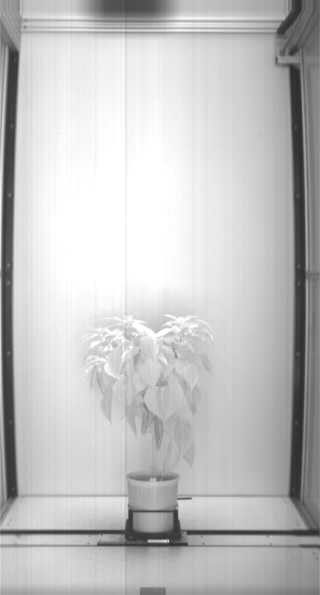bell-pepper fooled_you: (153, 418, 162, 449), (96, 369, 105, 396), (141, 411, 149, 435)
